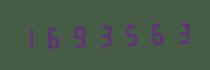five: (117, 19, 141, 48)
nine: (67, 21, 91, 50)
one: (17, 23, 41, 52)
six: (42, 22, 66, 51), (142, 18, 166, 47)
three: (92, 20, 116, 49), (167, 17, 191, 46)
